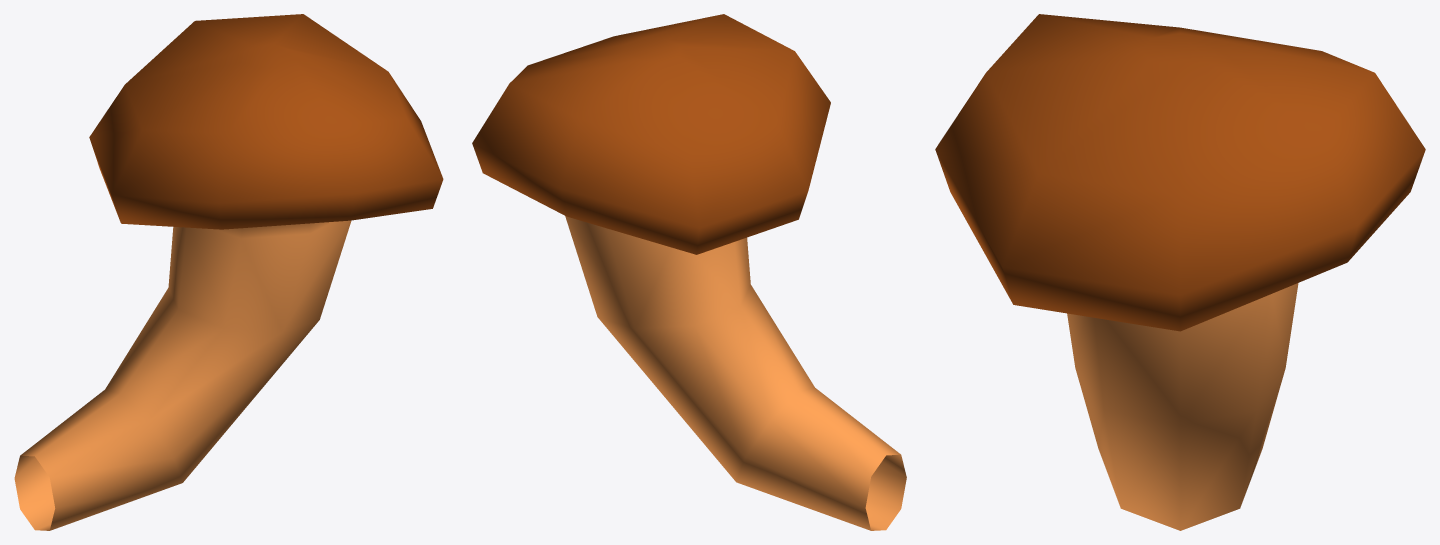
The model's file is Mashroom_04.fbx.
3 renders of one model, left to right at view 1: azimuth 30°, elevation 25°; view 2: azimuth 150°, elevation 25°; view 3: azimuth 270°, elevation 25°, orthographic. The views are drawn at different scales.
Parts seen in each view (by area): view 1: Mashroom_04; view 2: Mashroom_04; view 3: Mashroom_04.
Part boxes in pixels (x1,y1,x2,y2): Mashroom_04: [14, 14, 443, 530]; Mashroom_04: [472, 14, 906, 530]; Mashroom_04: [935, 14, 1425, 530].
Bounding box in the file's own units: 42.69 × 44.08 × 34.22.
